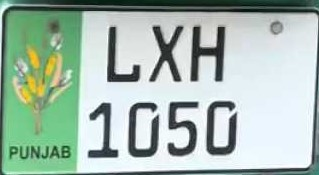0: (126, 100, 162, 158), (205, 99, 240, 157)
1: (84, 99, 122, 159)
5: (166, 100, 201, 157)
H: (189, 24, 227, 85)
L: (104, 22, 143, 86)
X: (148, 24, 185, 85)
